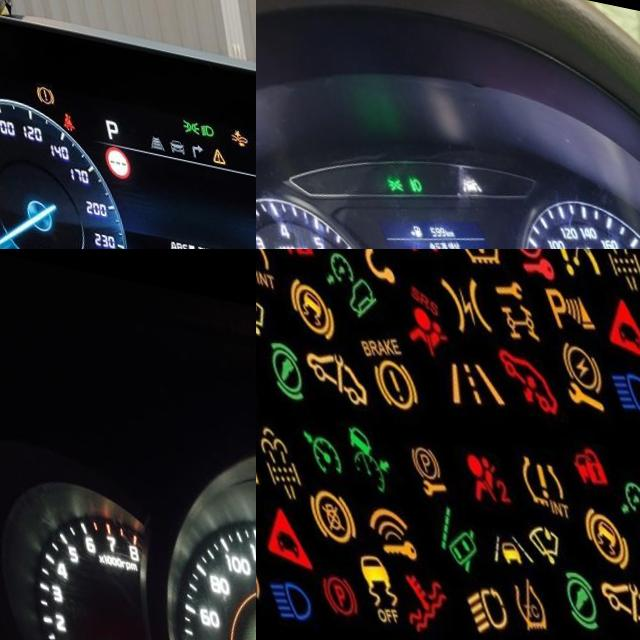Central Warning lamp: (201, 131, 216, 150)
Engine cooling system: (372, 555, 439, 630)
FrontFogLight: (397, 162, 413, 180)
LaneCenteringOff: (448, 158, 473, 180)
Low beam: (190, 108, 206, 123)
SideLamp: (375, 163, 394, 182), (173, 104, 191, 121)
